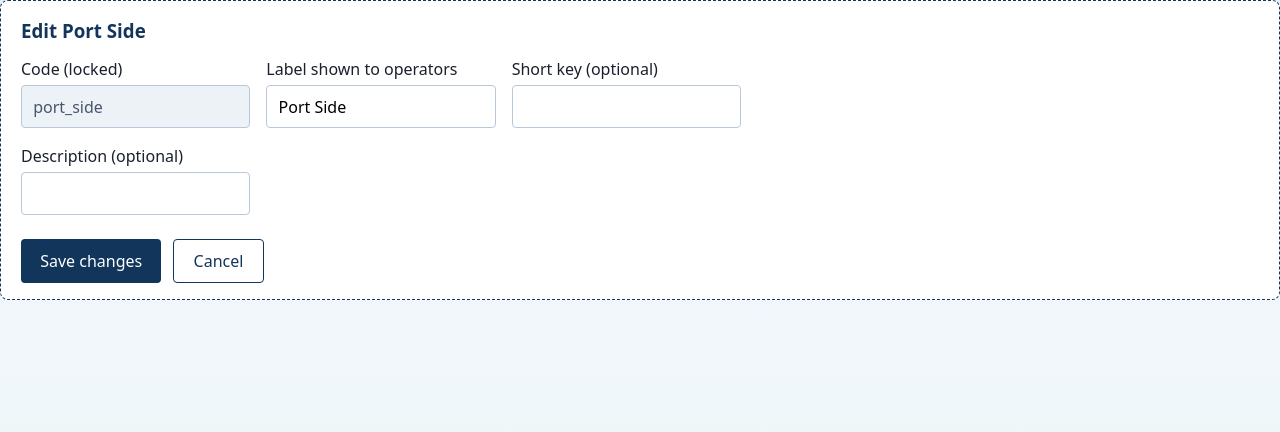
Scenario: editing a value › says nothing has changed when saved untouched
Click the button "Save changes" at (91, 261), box [21,240,161,283]
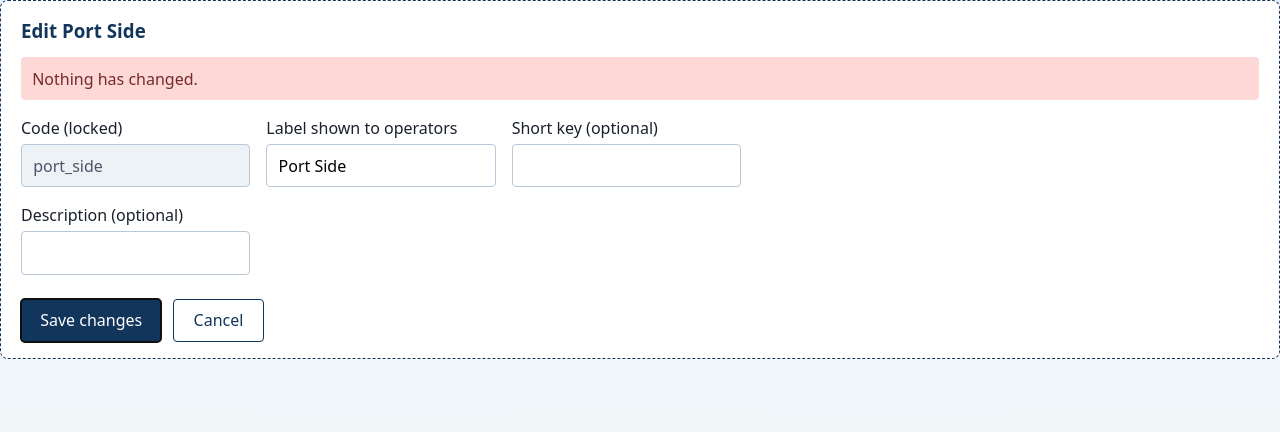
Expected: the message reads "Nothing has changed.", [32,68,198,90]
